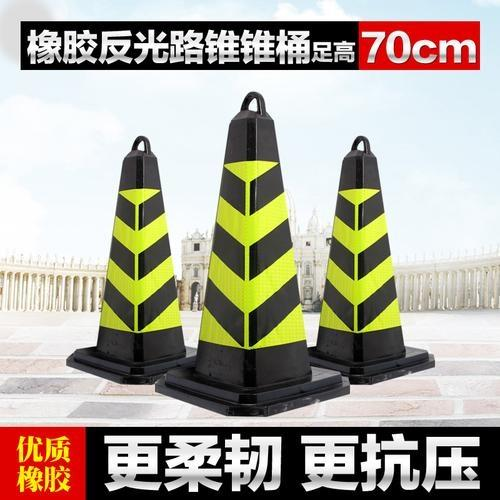cone_barrel: (183, 93, 317, 412), (67, 142, 192, 380), (304, 142, 422, 378)
